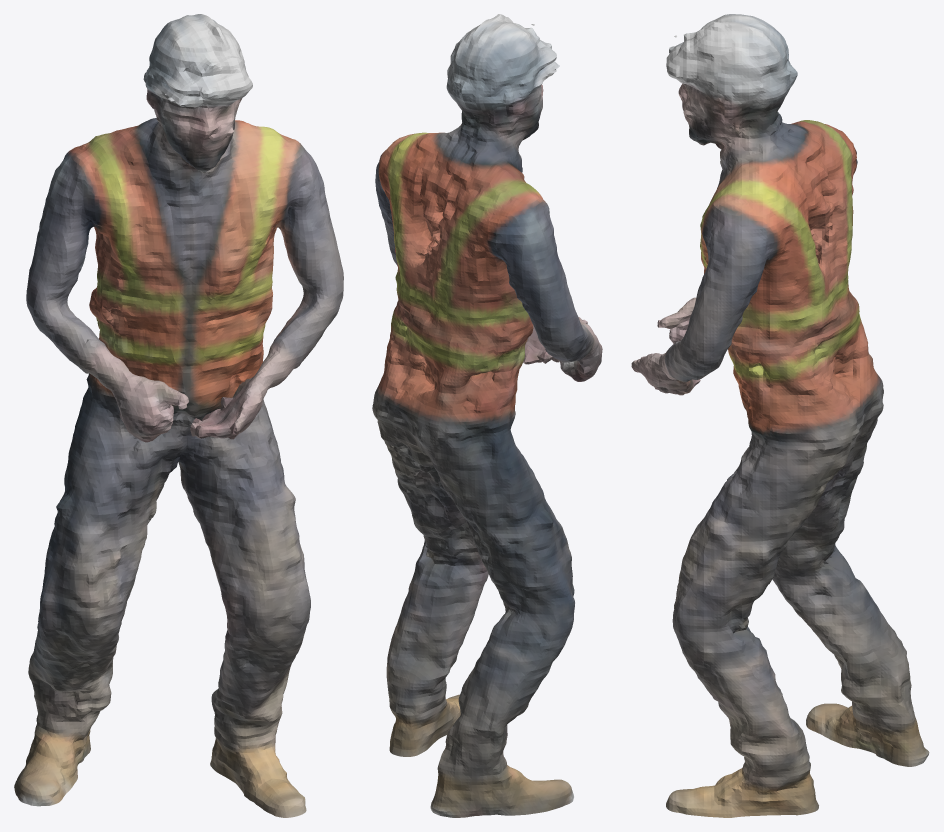
File: standup_16.glb
3 renders of one model, left to right at view 1: azimuth 30°, elevation 25°; view 2: azimuth 150°, elevation 25°; view 3: azimuth 270°, elevation 25°, orthographic. The views are drawn at different scales.
Visible parts, largest first — view 1: world; view 2: world; view 3: world.
Part boxes in pixels (<box>): world: <box>14,14,343,817</box>; world: <box>372,14,602,817</box>; world: <box>631,14,929,817</box>.
Bounding box in the file's own units: 0.6532 × 1.89 × 0.6738.
